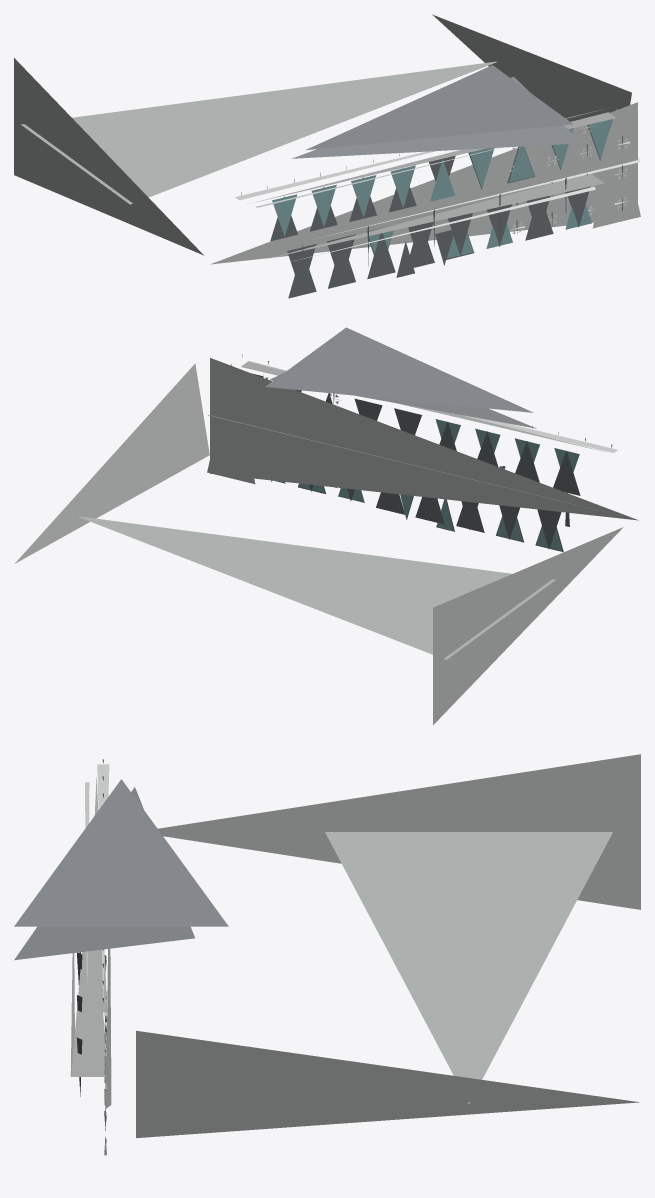
3 renders of one model, top to bottom at view 1: azimuth 30°, elevation 25°; view 2: azimuth 150°, elevation 25°; view 3: azimuth 270°, elevation 25°, orthographic. The views are drawn at different scales.
Parts seen in each view (by area): view 1: 北区食堂 · Canteen grey panel.002, 北区食堂 · Canteen roof metal.002, 北区食堂 · Canteen dark frame.002, 北区食堂 · Canteen glazing.002, 北区食堂 · Canteen canopy soffit.002, 北区食堂 · Canteen pale trim.002, 北区食堂 · Canteen roof rail.002, 北区食堂 · Canteen X decor.002; view 2: 北区食堂 · Canteen grey panel.002, 北区食堂 · Canteen roof metal.002, 北区食堂 · Canteen dark frame.002, 北区食堂 · Canteen glazing.002, 北区食堂 · Canteen canopy soffit.002, 北区食堂 · Canteen roof rail.002; view 3: 北区食堂 · Canteen grey panel.002, 北区食堂 · Canteen roof metal.002, 北区食堂 · Canteen canopy soffit.002, 北区食堂 · Canteen pale trim.002.
Boxes of the visible parts, left/top/right/bottom form: 北区食堂 · Canteen grey panel.002: left=14, top=14, right=640, bottom=264; 北区食堂 · Canteen roof metal.002: left=291, top=65, right=581, bottom=158; 北区食堂 · Canteen dark frame.002: left=241, top=102, right=613, bottom=298; 北区食堂 · Canteen glazing.002: left=272, top=119, right=612, bottom=268; 北区食堂 · Canteen canopy soffit.002: left=250, top=112, right=615, bottom=258; 北区食堂 · Canteen pale trim.002: left=256, top=127, right=640, bottom=262; 北区食堂 · Canteen roof rail.002: left=235, top=109, right=601, bottom=200; 北区食堂 · Canteen X decor.002: left=509, top=124, right=630, bottom=233; 北区食堂 · Canteen grey panel.002: left=14, top=358, right=638, bottom=724; 北区食堂 · Canteen roof metal.002: left=265, top=327, right=536, bottom=428; 北区食堂 · Canteen dark frame.002: left=242, top=354, right=612, bottom=552; 北区食堂 · Canteen glazing.002: left=274, top=396, right=579, bottom=551; 北区食堂 · Canteen canopy soffit.002: left=241, top=361, right=607, bottom=452; 北区食堂 · Canteen roof rail.002: left=245, top=361, right=617, bottom=452; 北区食堂 · Canteen grey panel.002: left=136, top=754, right=640, bottom=1138; 北区食堂 · Canteen roof metal.002: left=14, top=779, right=228, bottom=960; 北区食堂 · Canteen canopy soffit.002: left=71, top=777, right=107, bottom=1076; 北区食堂 · Canteen pale trim.002: left=70, top=782, right=111, bottom=1108.
Bounding box in the file's own units: 49.51 × 15.8 × 46.68.
